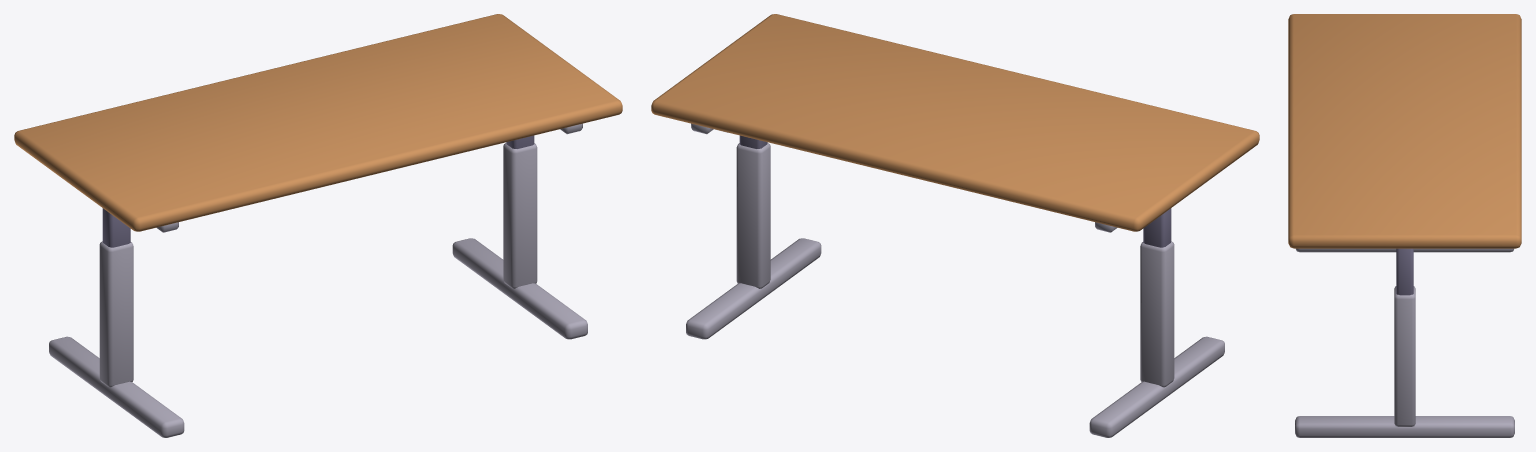
File: senior_standing_desk.glb
3 views of the same model, side by side, from view 1: azimuth 30°, elevation 25°; view 2: azimuth 150°, elevation 25°; view 3: azimuth 270°, elevation 25° (orthographic). The views are drawn at different scales.
Parts seen in each view (by area): view 1: senior_standing_desk__Wood, senior_standing_desk__Metal, senior_standing_desk__SlateLav; view 2: senior_standing_desk__Wood, senior_standing_desk__Metal, senior_standing_desk__SlateLav; view 3: senior_standing_desk__Wood, senior_standing_desk__Metal, senior_standing_desk__SlateLav.
Boxes of the visible parts, x1,y1,x2,y2 form: senior_standing_desk__Wood: (14, 14, 622, 231); senior_standing_desk__Metal: (49, 123, 587, 437); senior_standing_desk__SlateLav: (102, 135, 534, 247); senior_standing_desk__Wood: (651, 14, 1259, 231); senior_standing_desk__Metal: (686, 123, 1224, 437); senior_standing_desk__SlateLav: (739, 135, 1171, 247); senior_standing_desk__Wood: (1288, 14, 1521, 248); senior_standing_desk__Metal: (1295, 248, 1514, 437); senior_standing_desk__SlateLav: (1396, 248, 1413, 295).
Size of the model in its own units: 1.6 by 0.72 by 0.7.
